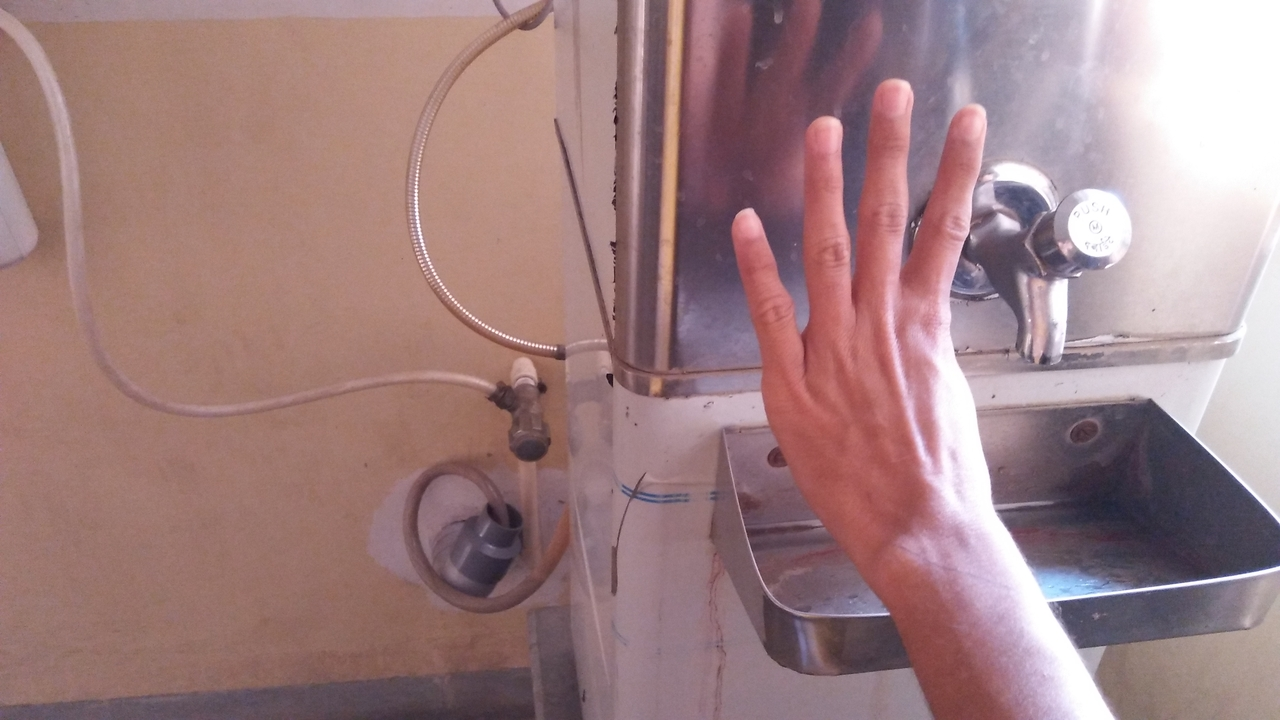fingertip: (866, 72, 920, 124), (944, 96, 998, 144), (798, 108, 850, 156), (728, 196, 776, 248)
